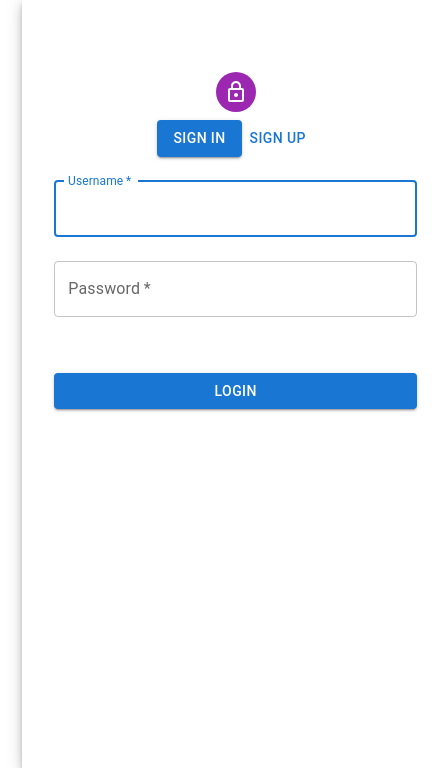
Scenario: Authentication Page › should switch to Sign Up form and show Full Name field
Step 1. Click the button "Sign Up" → (278, 138), box [242,120,314,156]
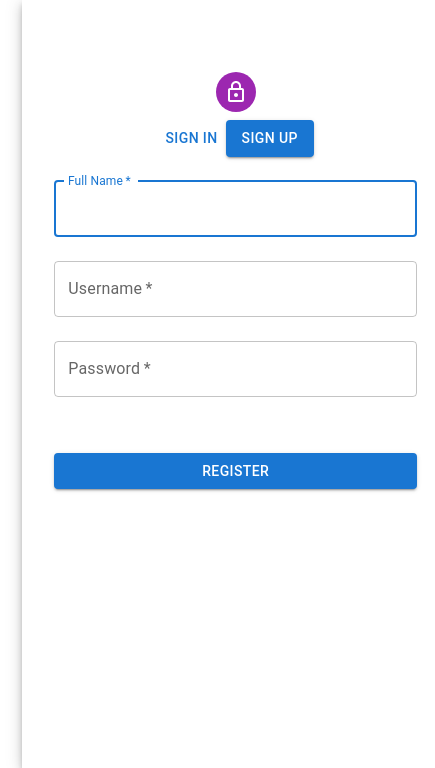
Expected: the field labelled "Full Name *" is shown, [54,180,417,236]
